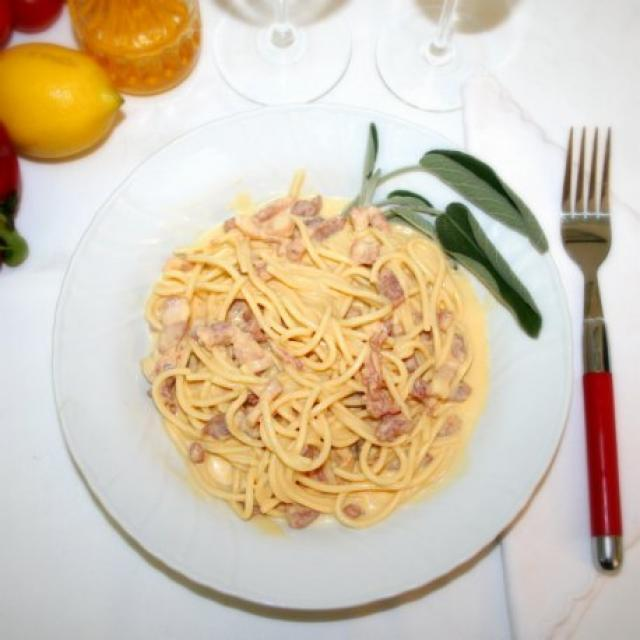Pasta with carbonara sauce: (91, 140, 539, 546)
